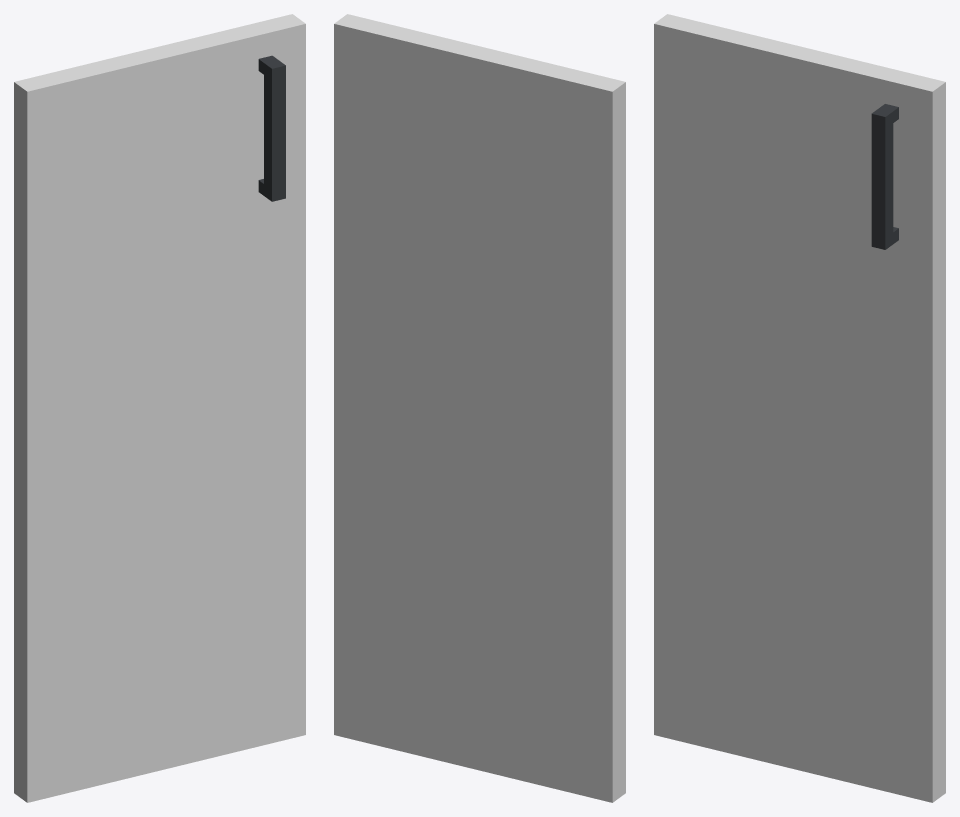
The model's file is BathroomDoor_C1_02.fbx.
3 renders of one model, left to right at view 1: azimuth 30°, elevation 25°; view 2: azimuth 150°, elevation 25°; view 3: azimuth 330°, elevation 25°, orthographic.
Visible parts, largest first — view 1: BathroomDoor_C1_02; view 2: BathroomDoor_C1_02; view 3: BathroomDoor_C1_02.
Boxes of the visible parts, bbox=[...] form: BathroomDoor_C1_02: bbox=[14, 14, 305, 802]; BathroomDoor_C1_02: bbox=[334, 14, 625, 802]; BathroomDoor_C1_02: bbox=[654, 14, 945, 802].
Bounding box in the file's own units: 30 × 73.19 × 5.03.
